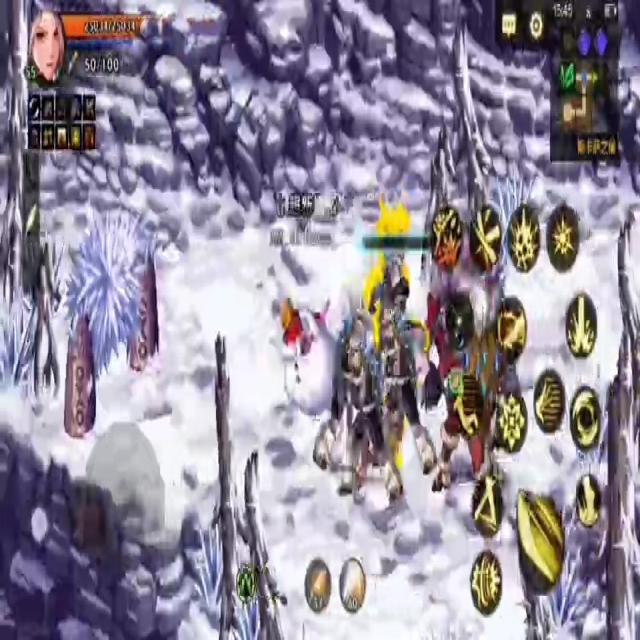player: (276, 283, 346, 427)
